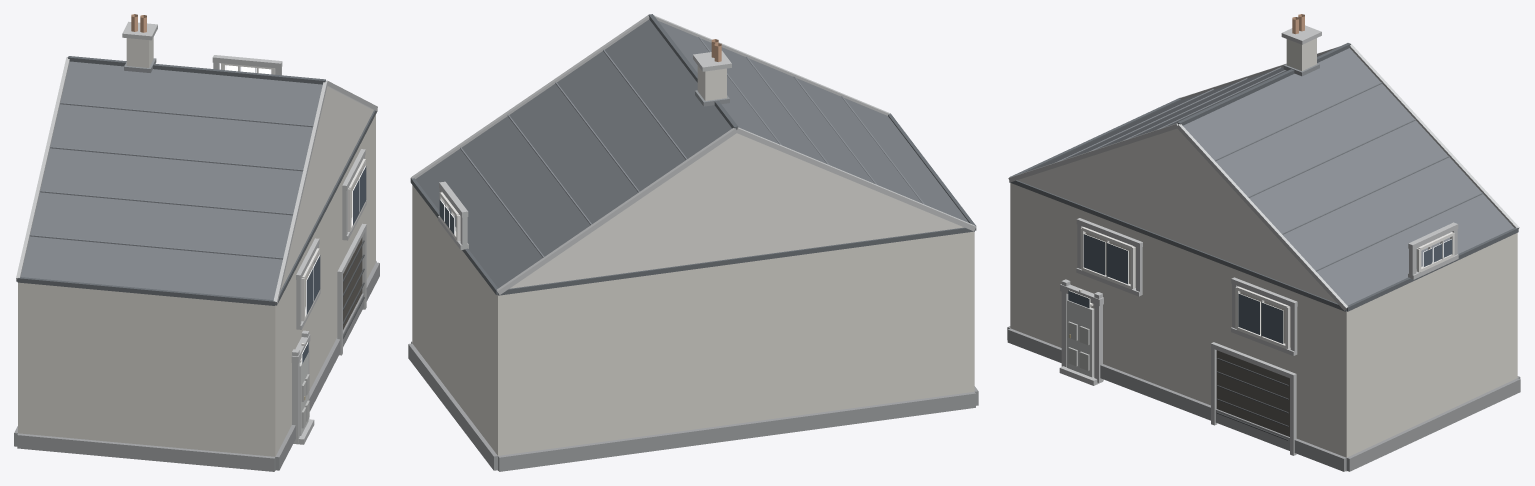
3 views of the same model, side by side, from view 1: azimuth 30°, elevation 25°; view 2: azimuth 150°, elevation 25°; view 3: azimuth 270°, elevation 25° (orthographic). The views are drawn at different scales.
Visible parts, largest first — view 1: slate, harl_grey, stone_band, plinth, harl, slate_dk, slate_lt, frame, pend_dark, chim_render, pipe, door_cad; view 2: harl_grey, slate, harl, plinth, stone_band, slate_dk, slate_lt, chim_render; view 3: harl_grey, slate, harl, stone_band, plinth, slate_dk, pend_dark, slate_lt, frame, door_cad, chim_render, window_glass_003 (+5 smaller).
Part boxes in pixels (x1,y1,x2,y2): slate: [20, 61, 322, 299]; harl_grey: [18, 114, 375, 470]; stone_band: [16, 21, 377, 444]; plinth: [14, 261, 379, 471]; harl: [280, 86, 373, 290]; slate_dk: [16, 56, 377, 305]; slate_lt: [29, 102, 313, 259]; frame: [221, 63, 365, 362]; pend_dark: [343, 237, 362, 329]; chim_render: [126, 37, 153, 67]; pipe: [343, 240, 364, 338]; door_cad: [299, 352, 308, 435]; harl_grey: [412, 185, 974, 455]; slate: [415, 19, 968, 288]; harl: [510, 133, 963, 288]; plinth: [408, 341, 978, 471]; stone_band: [411, 15, 976, 294]; slate_dk: [410, 14, 976, 295]; slate_lt: [460, 37, 924, 257]; chim_render: [697, 65, 726, 100]; harl_grey: [1010, 183, 1517, 471]; slate: [1030, 48, 1513, 305]; harl: [1017, 128, 1336, 303]; stone_band: [1008, 25, 1519, 455]; plinth: [1007, 326, 1520, 471]; slate_dk: [1009, 43, 1518, 311]; pend_dark: [1216, 350, 1289, 436]; slate_lt: [1055, 67, 1483, 271]; frame: [1079, 227, 1454, 349]; door_cad: [1067, 300, 1094, 377]; chim_render: [1286, 38, 1316, 70]; window_glass_003: [1238, 293, 1260, 334].
Size of the model in its own units: 13.99 by 10.38 by 14.34.
